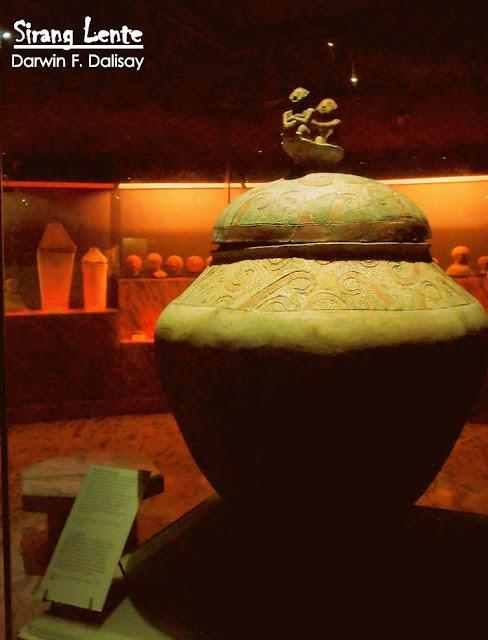manunggul_jar: (146, 81, 488, 569)
